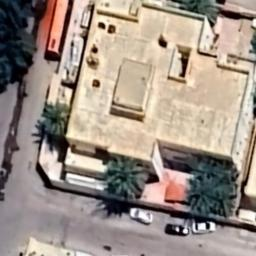sedan: (129, 206, 154, 224), (190, 220, 216, 235), (164, 223, 189, 237)
